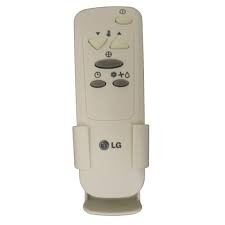remote control: (72, 7, 156, 216)
